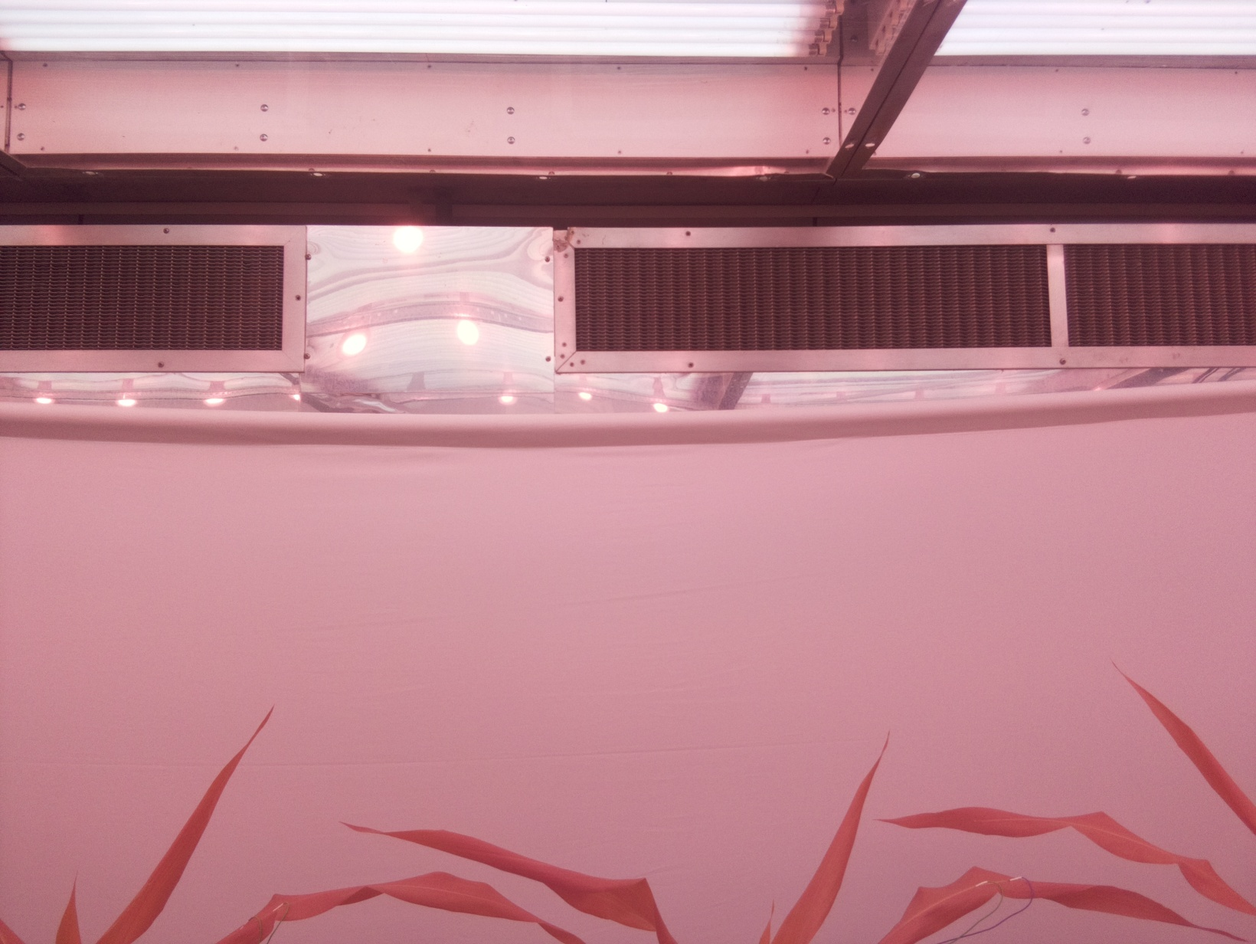maize: (0, 703, 588, 944), (339, 728, 893, 944), (872, 658, 1256, 944)
